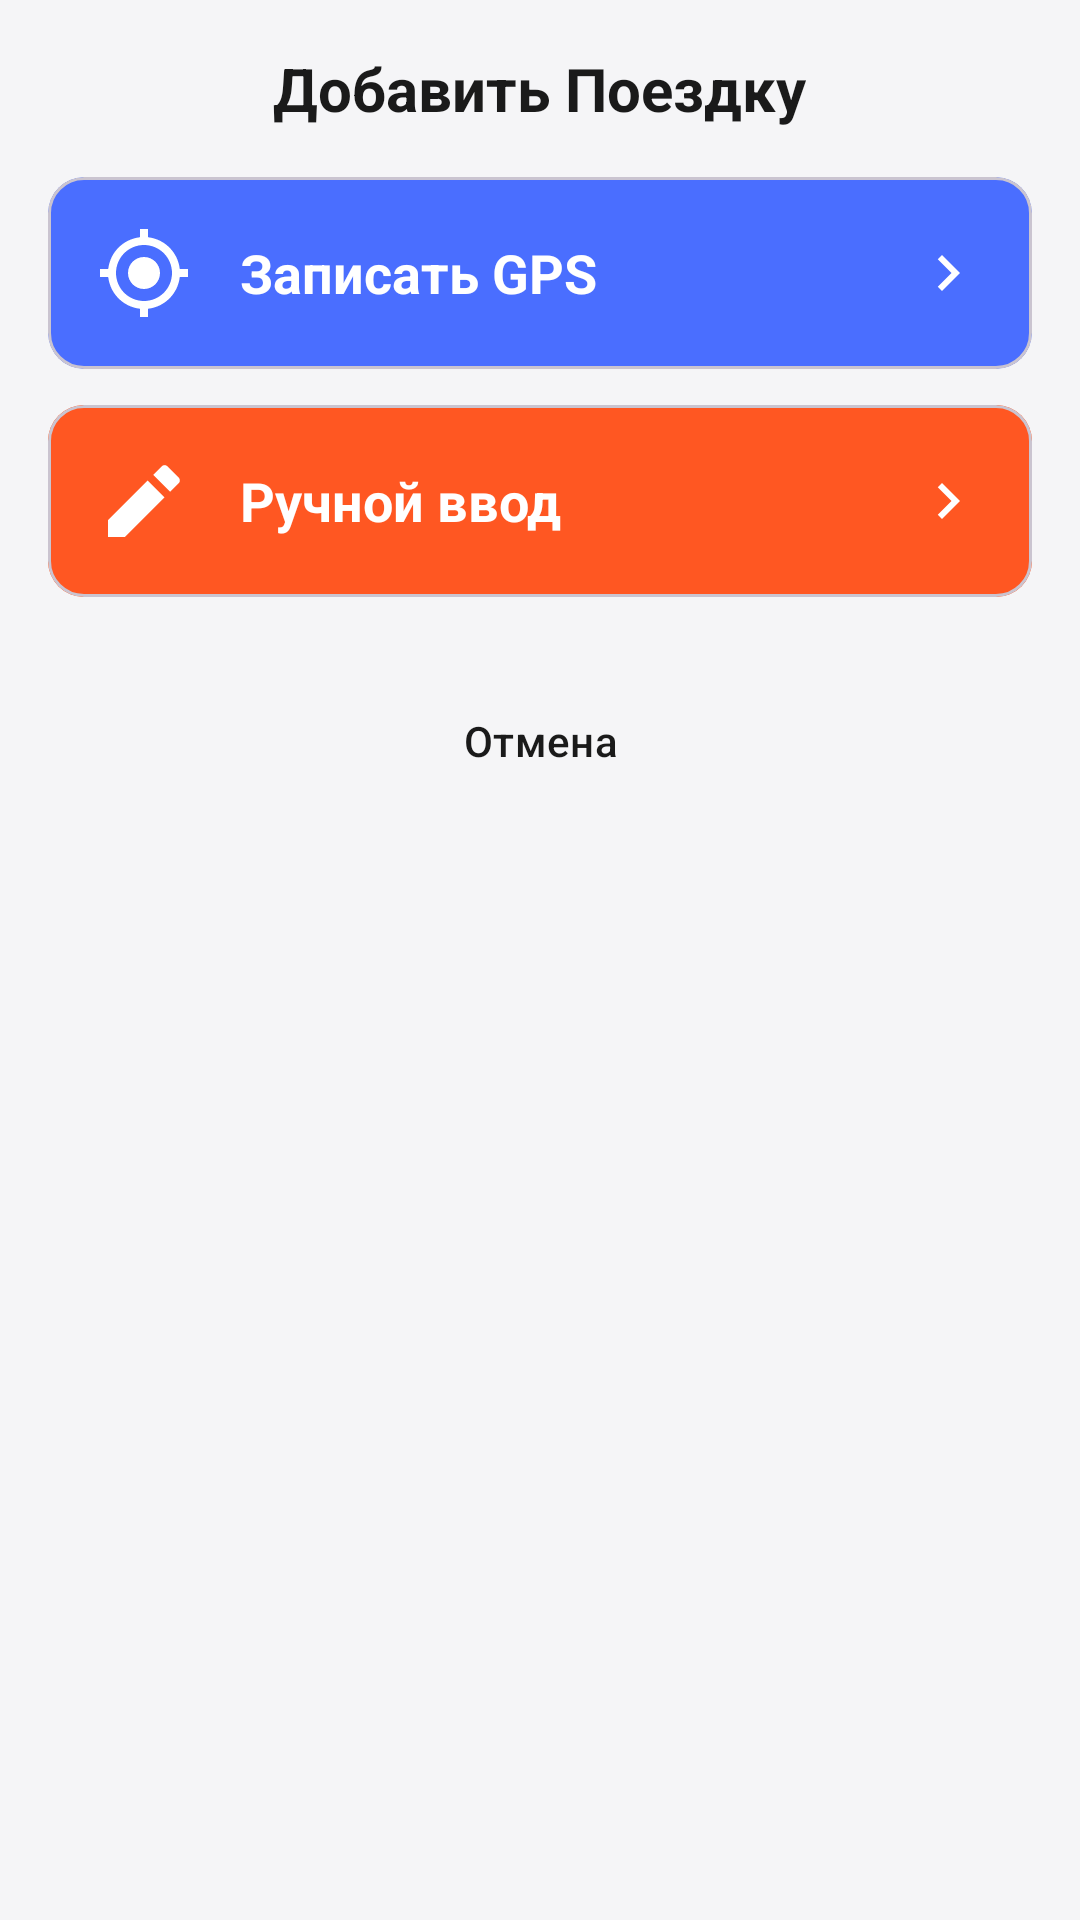

Icons on this 1080 x 1920 Android screen, each with its box as (x1, y1, x2, y2):
chevron right: (938, 255, 960, 291), (938, 483, 960, 519)
